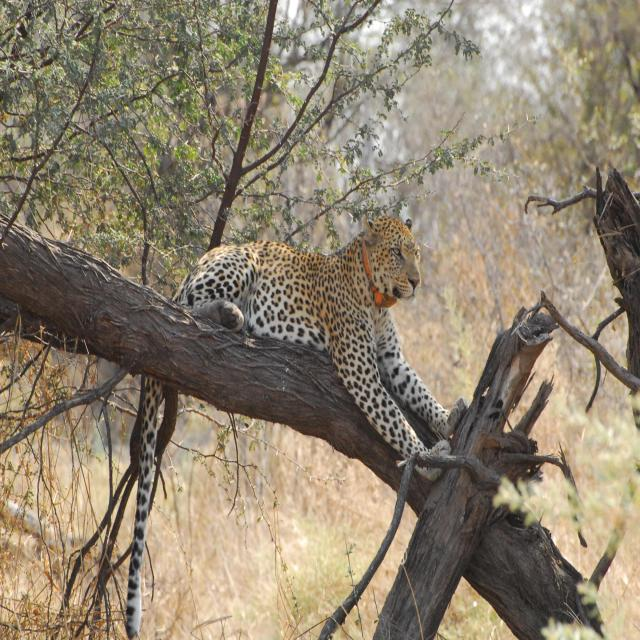Leopard: (124, 207, 464, 578)
